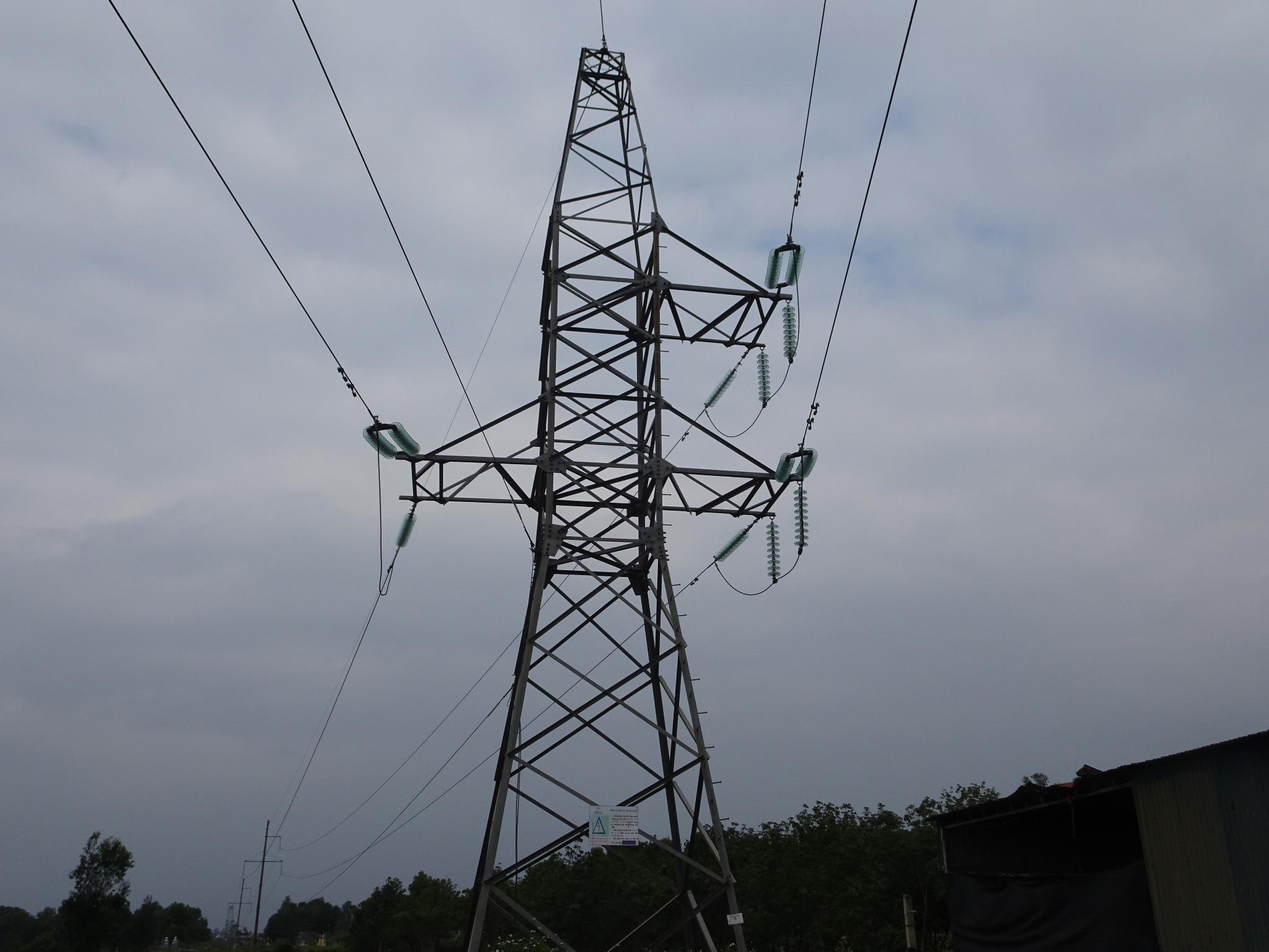tower: (394, 26, 823, 952)
